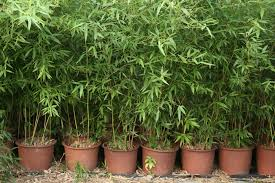bamboo: (80, 2, 274, 140), (2, 2, 74, 138)
